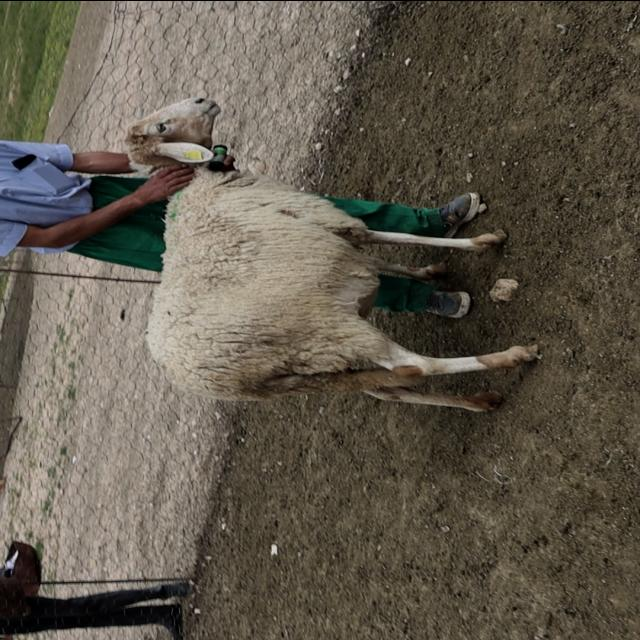Score_5: (146, 164, 537, 411)
